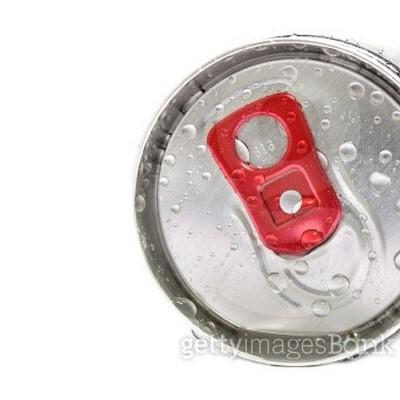beer: (136, 34, 400, 365)
